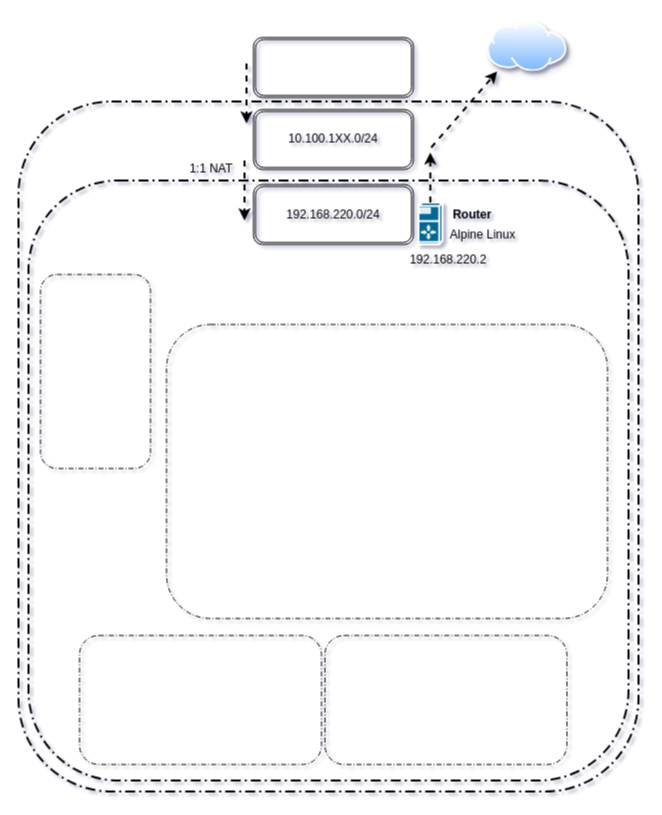
The diagram is 662 pixels wide and 815 high, and some of its shapes have lost their labels. Here are the shapes that lost their labels. From the top down, the centre of each, then its label:
At point 333,67: "TeamX".
At point 527,47: "Internet".
